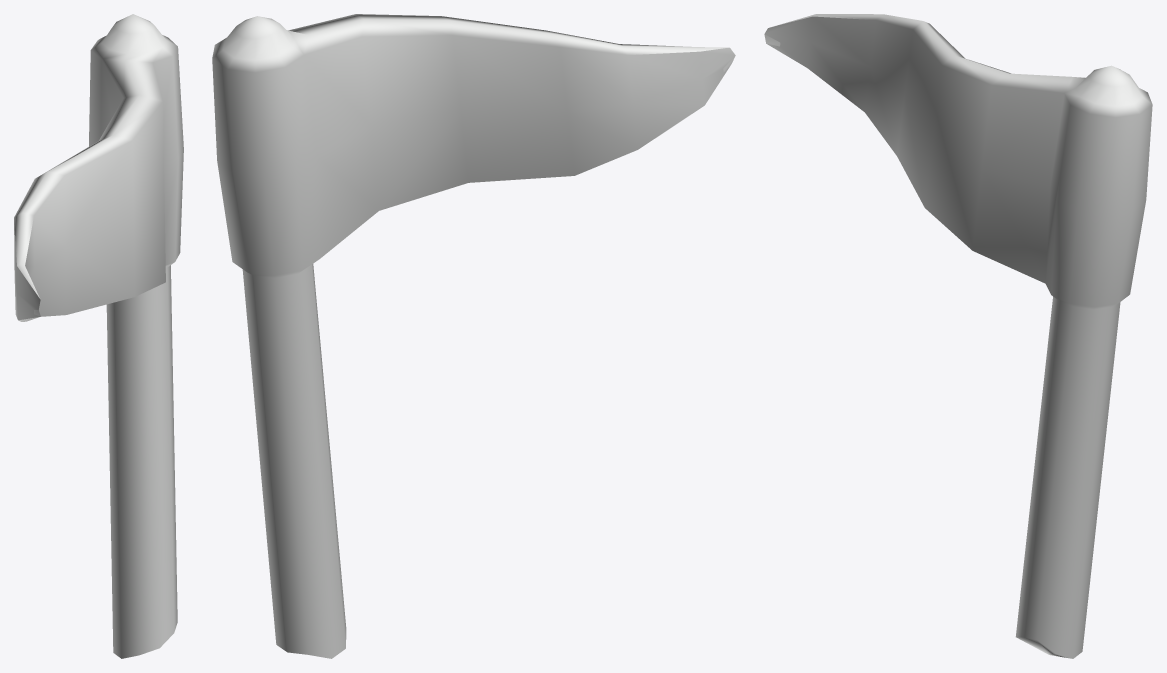
The model's file is Prop_SunlightSandcastleG.glb.
3 views of the same model, side by side, from view 1: azimuth 30°, elevation 25°; view 2: azimuth 150°, elevation 25°; view 3: azimuth 270°, elevation 25° (orthographic). The views are drawn at different scales.
Visible parts, largest first — view 1: Prop_SunlightSandcastleG; view 2: Prop_SunlightSandcastleG; view 3: Prop_SunlightSandcastleG.
Part boxes in pixels (x1=…): Prop_SunlightSandcastleG: x1=14, y1=14, x2=183, y2=658; Prop_SunlightSandcastleG: x1=212, y1=14, x2=735, y2=658; Prop_SunlightSandcastleG: x1=764, y1=14, x2=1152, y2=658.
Bounding box in the file's own units: 0.5584 × 1.05 × 0.619.
Materials: 1 (1 with a texture image).
